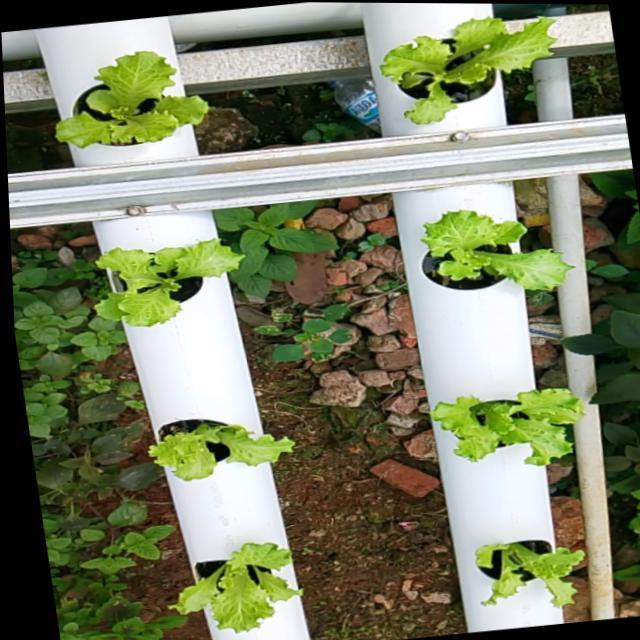Baby: (389, 23, 566, 131), (60, 53, 214, 168), (98, 240, 251, 330), (420, 210, 573, 291), (167, 544, 301, 634), (430, 389, 584, 467), (147, 419, 294, 482), (475, 541, 584, 608)
